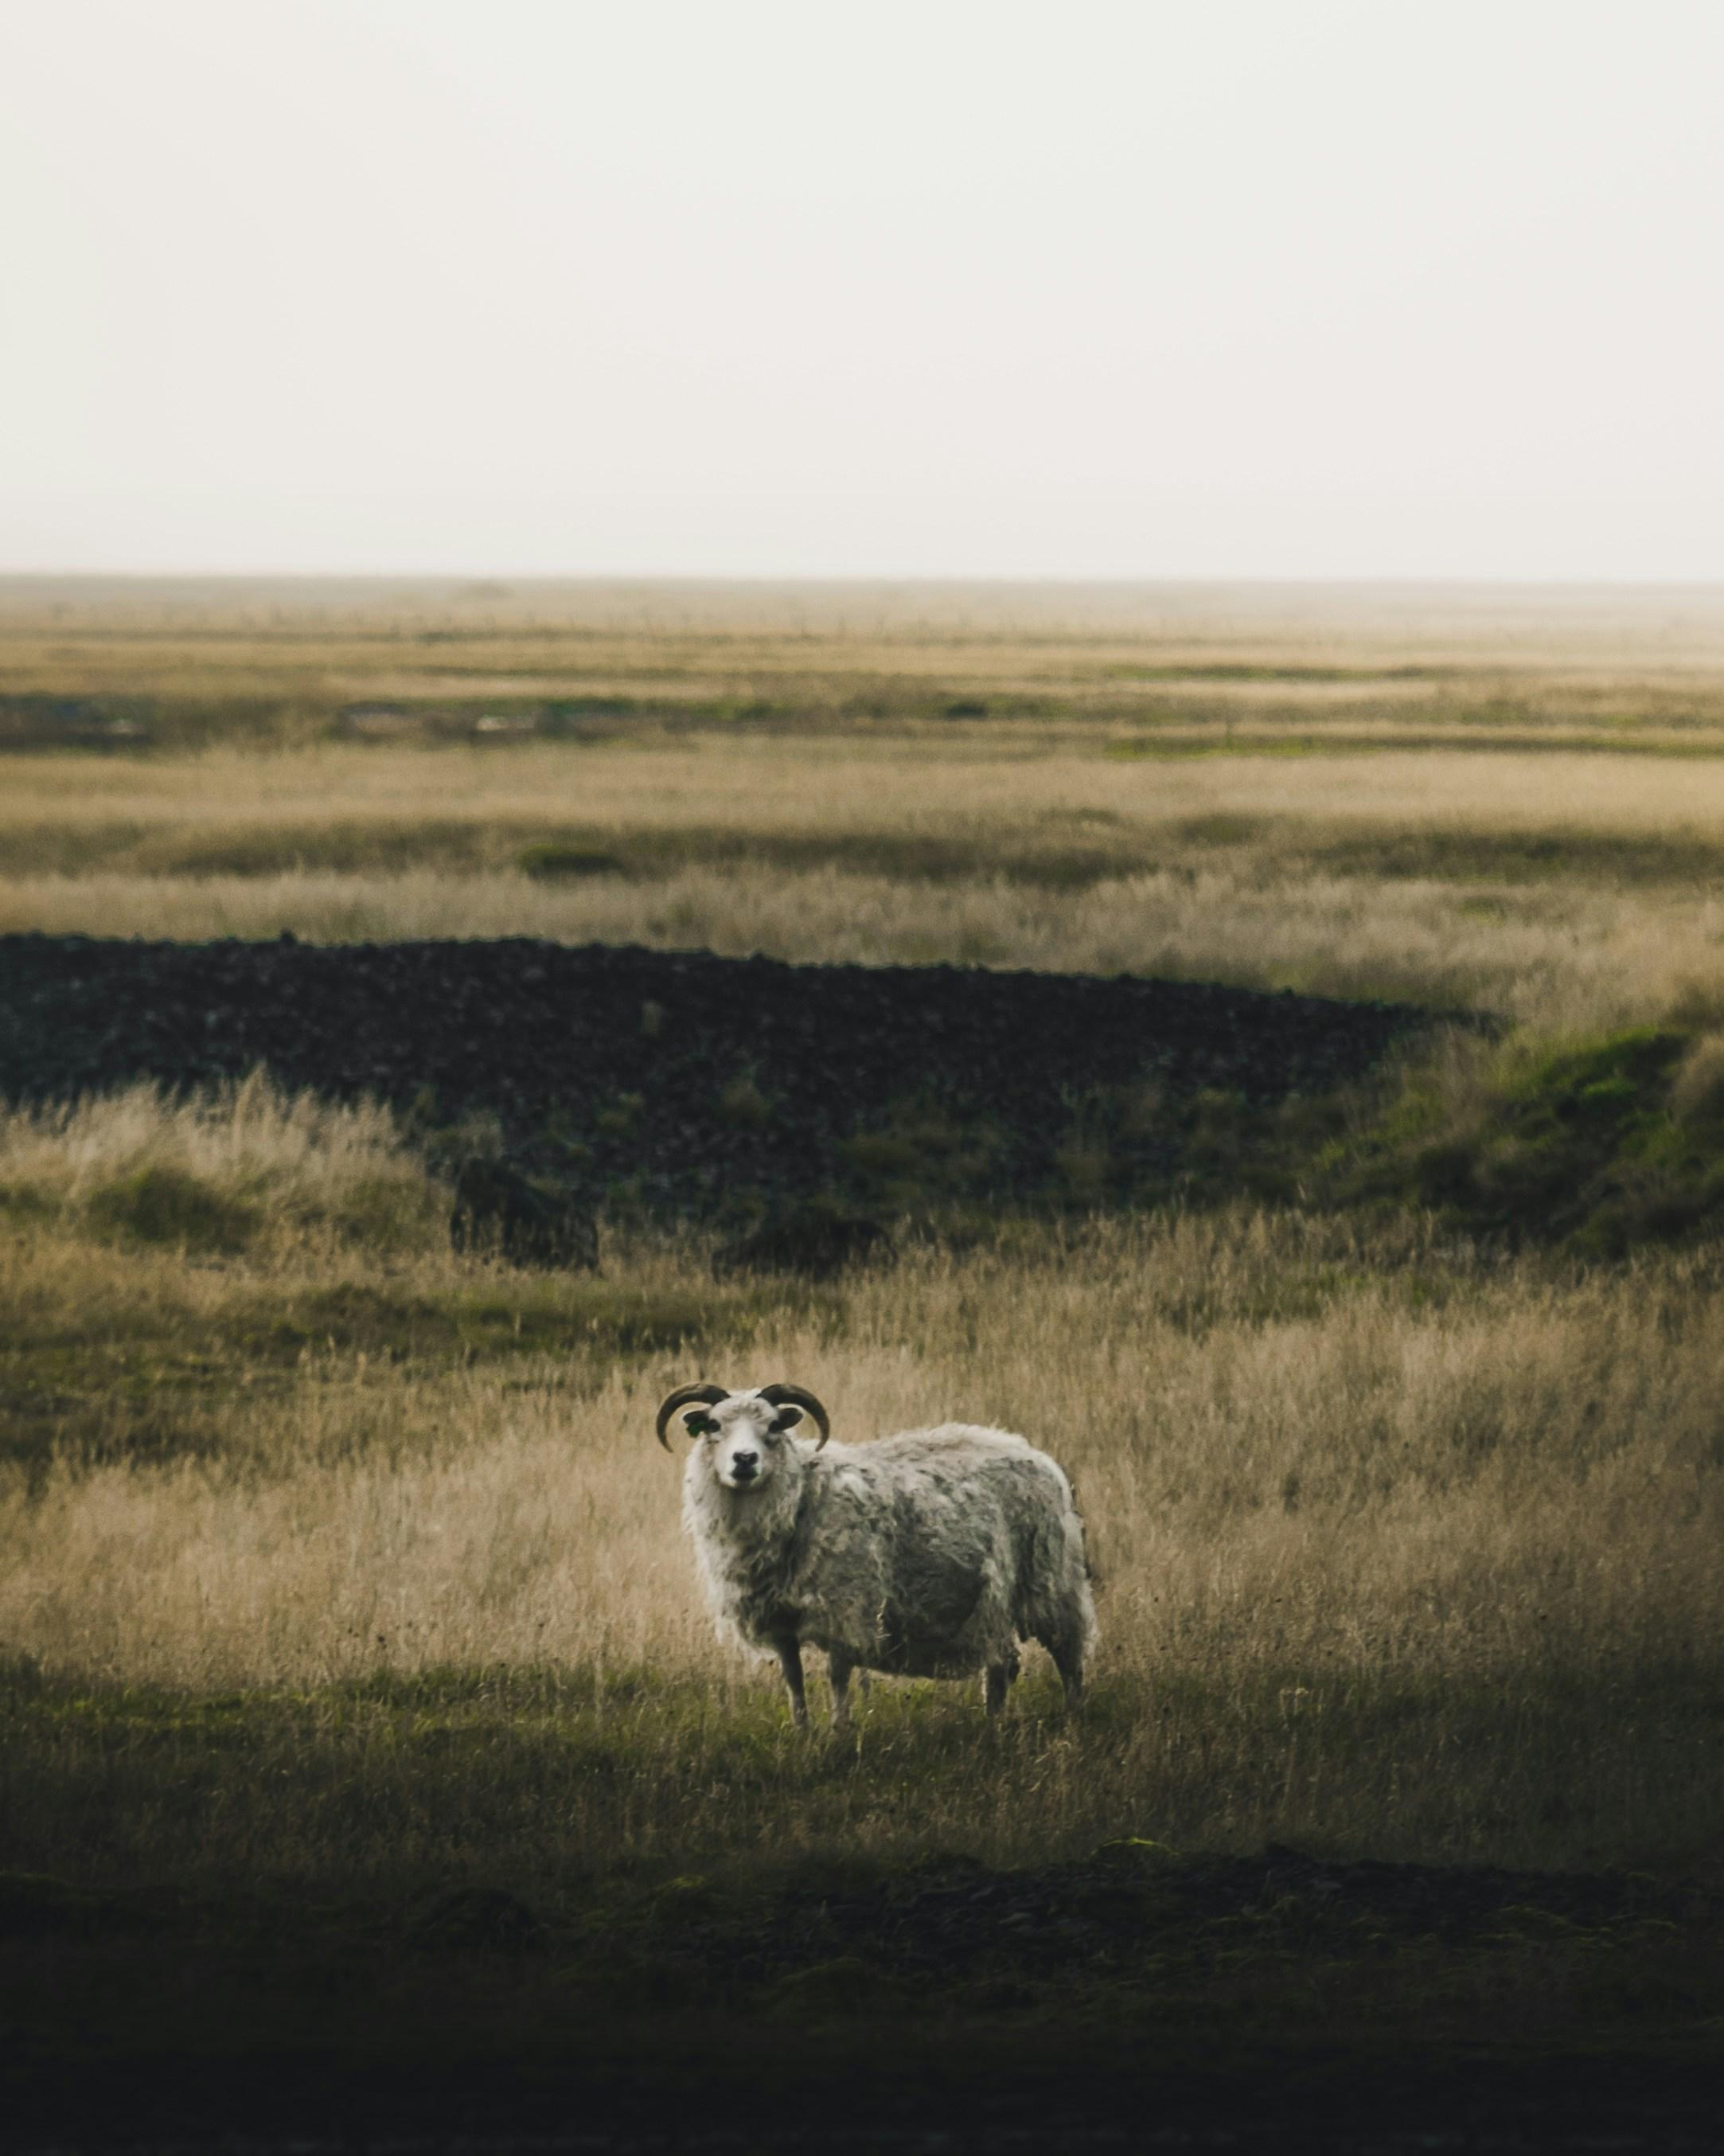sheep: (658, 1380, 1092, 1728)
